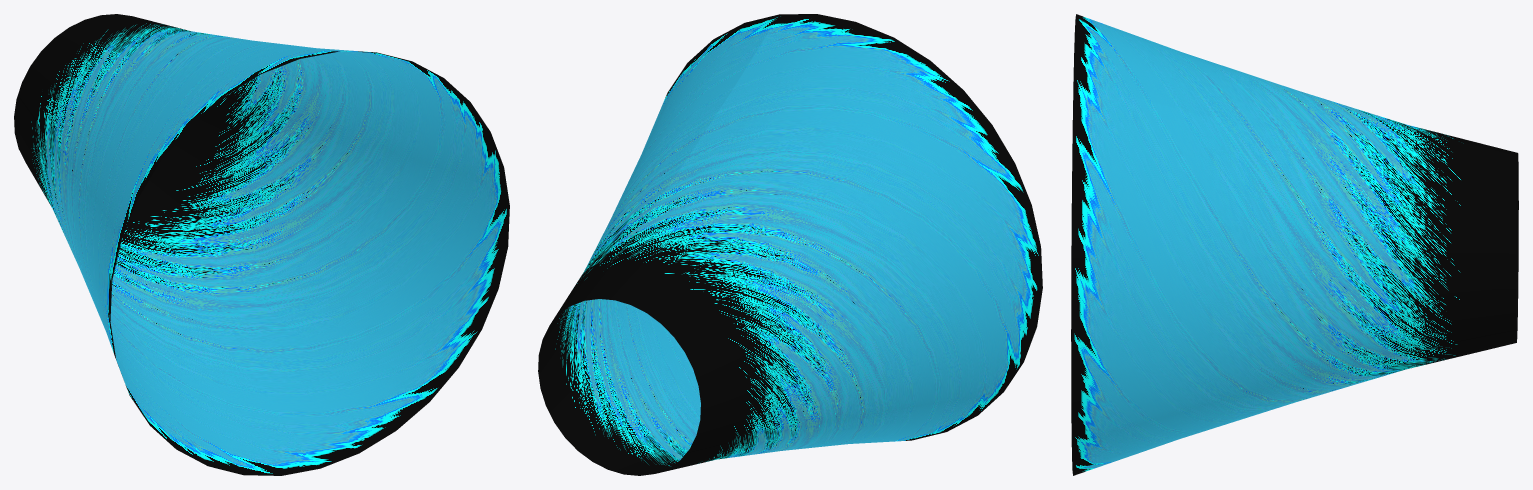
File: okex-portal.glb
The picture shows the model from 3 angles, left to right: view 1: azimuth 30°, elevation 25°; view 2: azimuth 150°, elevation 25°; view 3: azimuth 270°, elevation 25°; orthographic projection.
Visible parts, largest first — view 1: portal_entrance; view 2: portal_entrance; view 3: portal_entrance.
Part boxes in pixels (x1,y1,x2,y2): portal_entrance: [14, 14, 509, 475]; portal_entrance: [538, 14, 1042, 475]; portal_entrance: [1071, 14, 1518, 475].
Size of the model in its own units: 2.34 by 2.34 by 2.27.
Materials: 1 (1 with a texture image).
